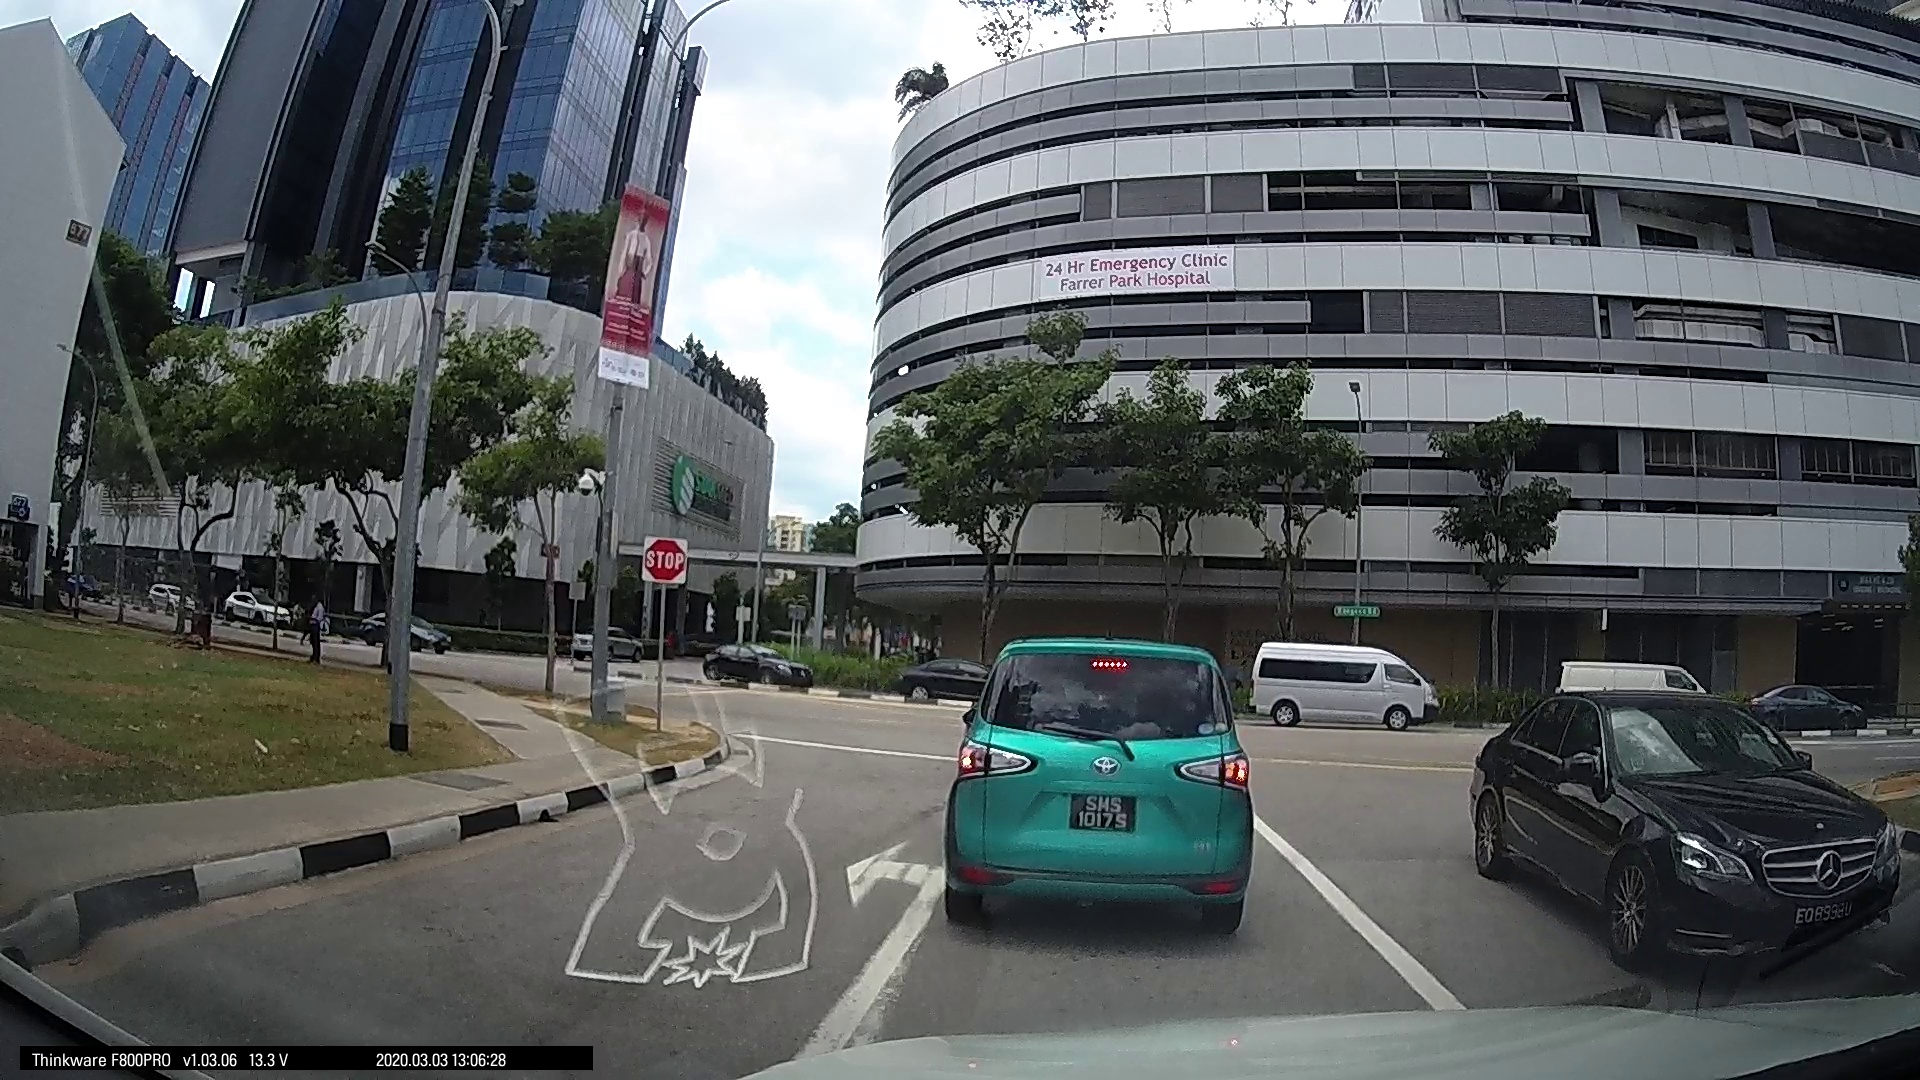Light Vehicle: (1456, 675, 1899, 975), (934, 618, 1254, 938), (1247, 640, 1439, 733), (1749, 679, 1869, 737), (698, 637, 811, 688)
